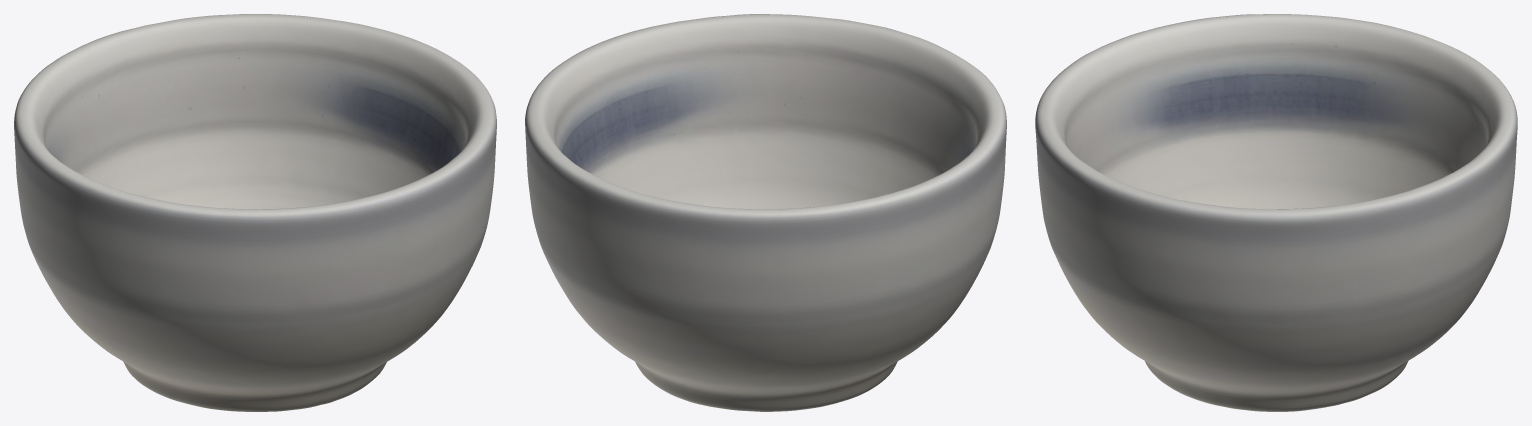
Rendered from model_soup_bowl.glb.
3 renders of one model, left to right at view 1: azimuth 30°, elevation 25°; view 2: azimuth 150°, elevation 25°; view 3: azimuth 270°, elevation 25°, orthographic.
Visible parts, largest first — view 1: tripo_node_4f6c16c5-9289-470b-b85a-9894e5aeb274; view 2: tripo_node_4f6c16c5-9289-470b-b85a-9894e5aeb274; view 3: tripo_node_4f6c16c5-9289-470b-b85a-9894e5aeb274.
Boxes of the visible parts, <box> form: tripo_node_4f6c16c5-9289-470b-b85a-9894e5aeb274: <box>14,14,496,411</box>; tripo_node_4f6c16c5-9289-470b-b85a-9894e5aeb274: <box>525,14,1006,411</box>; tripo_node_4f6c16c5-9289-470b-b85a-9894e5aeb274: <box>1035,14,1517,411</box>.
Size of the model in its own units: 0.9997 by 0.5603 by 0.9979.
1 material, 1 textured.
